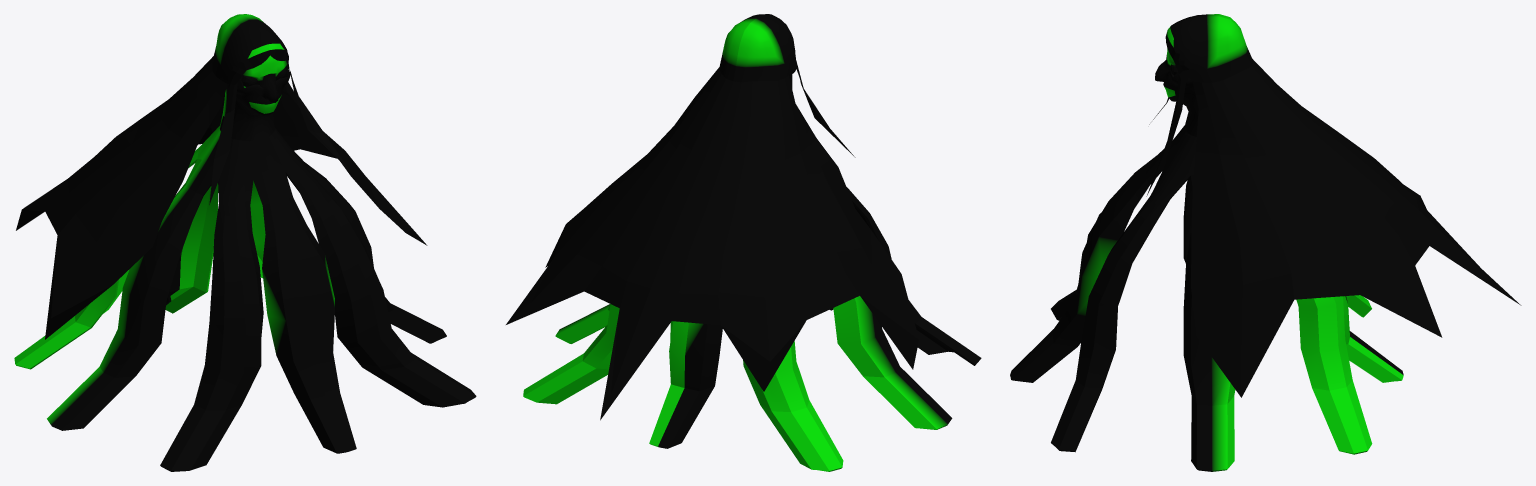
The model's file is Octopus.fbx.
3 renders of one model, left to right at view 1: azimuth 30°, elevation 25°; view 2: azimuth 150°, elevation 25°; view 3: azimuth 270°, elevation 25°, orthographic.
Visible parts, largest first — view 1: pSphere3; view 2: pSphere3; view 3: pSphere3.
Part boxes in pixels (x1,y1,x2,y2): pSphere3: [14, 14, 476, 471]; pSphere3: [506, 14, 981, 471]; pSphere3: [1010, 14, 1521, 471].
Bounding box in the file's own units: 10 × 8.83 × 11.32.
